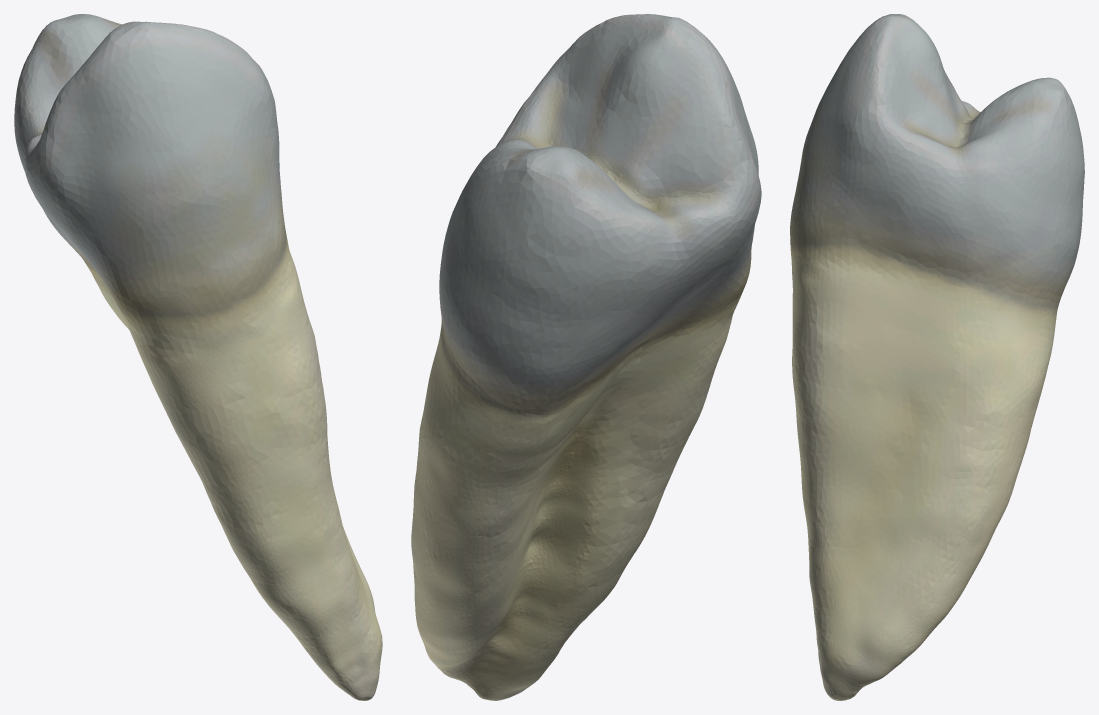
File: 14 - quiz.glb
3 views of the same model, side by side, from view 1: azimuth 30°, elevation 25°; view 2: azimuth 150°, elevation 25°; view 3: azimuth 270°, elevation 25° (orthographic). The views are drawn at different scales.
Visible parts, largest first — view 1: 3MFMeshParent_0; view 2: 3MFMeshParent_0; view 3: 3MFMeshParent_0.
Boxes of the visible parts, x1,y1,x2,y2 form: 3MFMeshParent_0: (14,14,382,700); 3MFMeshParent_0: (411,14,761,700); 3MFMeshParent_0: (790,14,1084,700).
Size of the model in its own units: 0.2393 by 0.512 by 0.227.
Materials: 1 (1 with a texture image).
